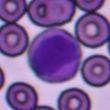M: (28, 28, 82, 83)
